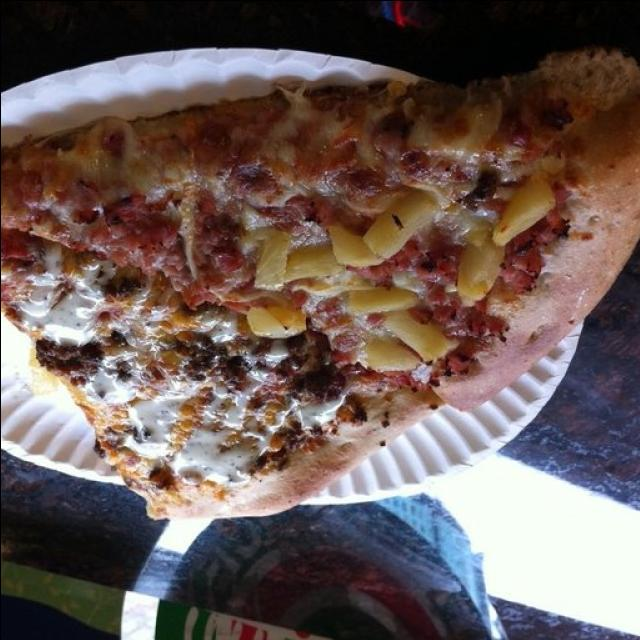pizza: (0, 51, 640, 522)
